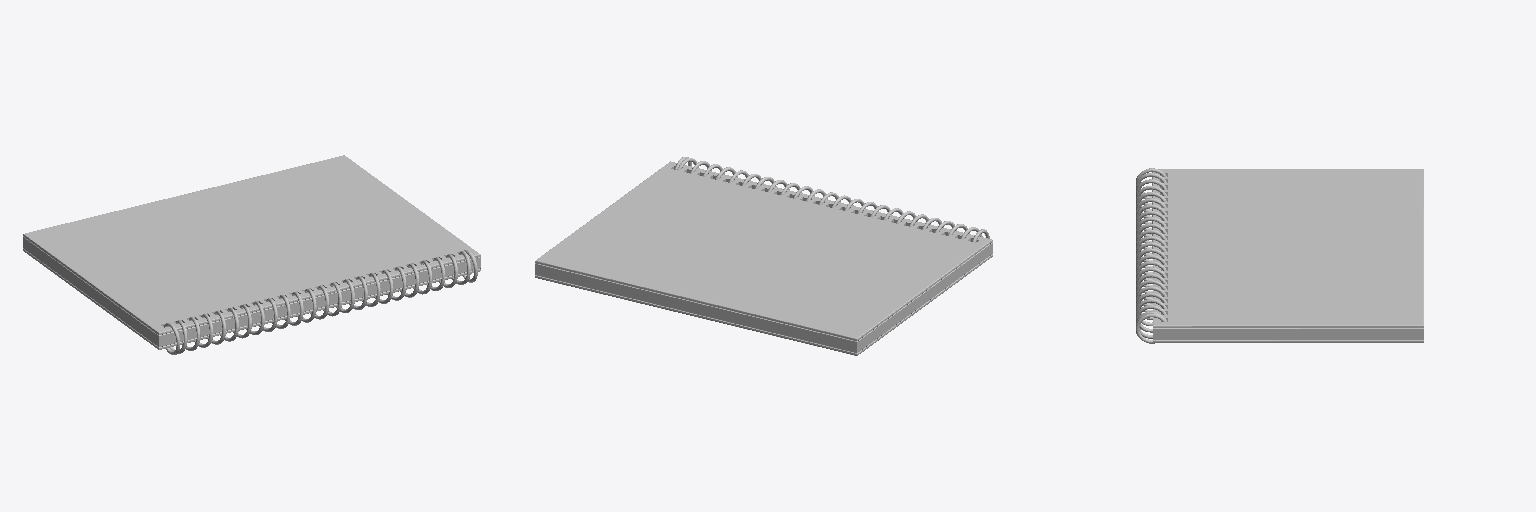
File: Caderno_2.obj
3 renders of one model, left to right at view 1: azimuth 30°, elevation 25°; view 2: azimuth 150°, elevation 25°; view 3: azimuth 270°, elevation 25°, orthographic.
Visible parts, largest first — view 1: _notebook_v1_NEW:_notebook; view 2: _notebook_v1_NEW:_notebook; view 3: _notebook_v1_NEW:_notebook.
Part boxes in pixels (x1,y1,x2,y2): _notebook_v1_NEW:_notebook: (23, 155, 480, 354); _notebook_v1_NEW:_notebook: (535, 157, 992, 355); _notebook_v1_NEW:_notebook: (1136, 168, 1423, 343).
Size of the model in its own units: 0.4869 by 0.0436 by 0.3776.